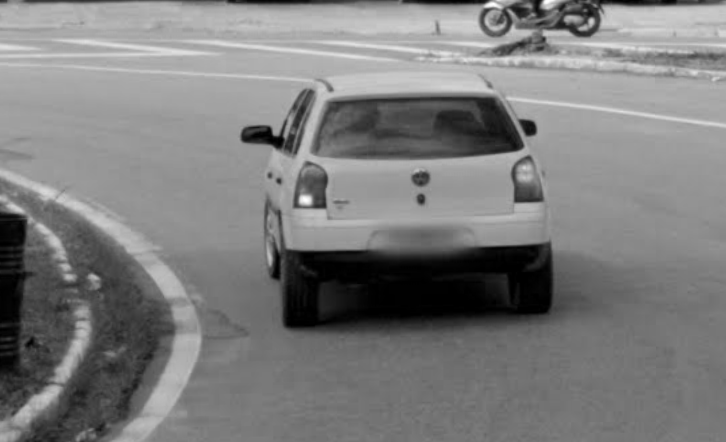car: (232, 66, 570, 333)
